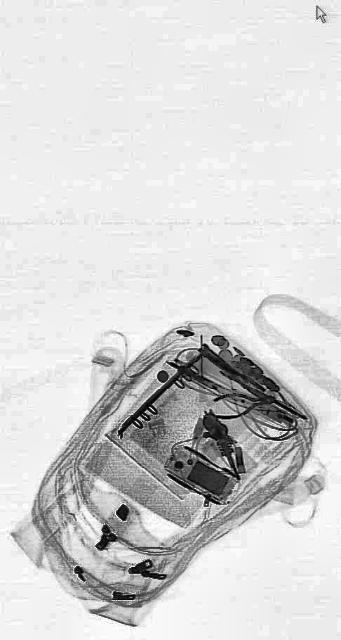Pliers: (212, 383, 274, 422)
